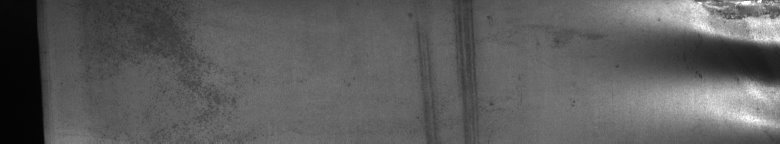ke: (555, 4, 776, 136)
